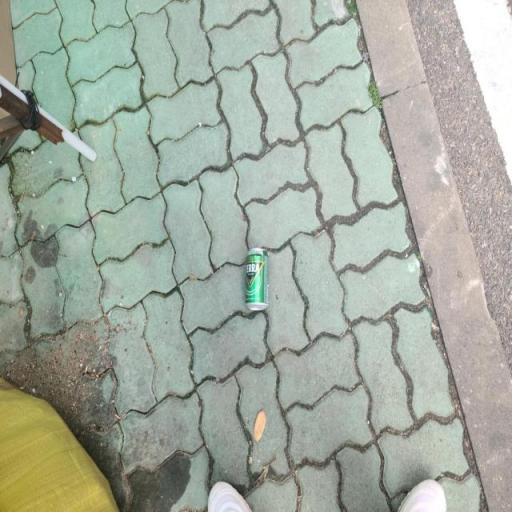metal: (236, 233, 274, 333)
